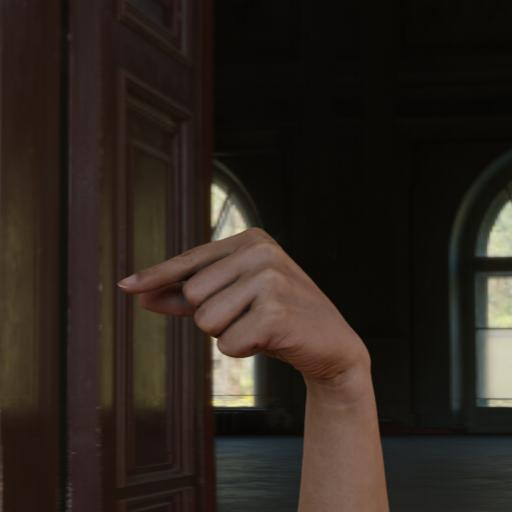G: (99, 210, 415, 512)
